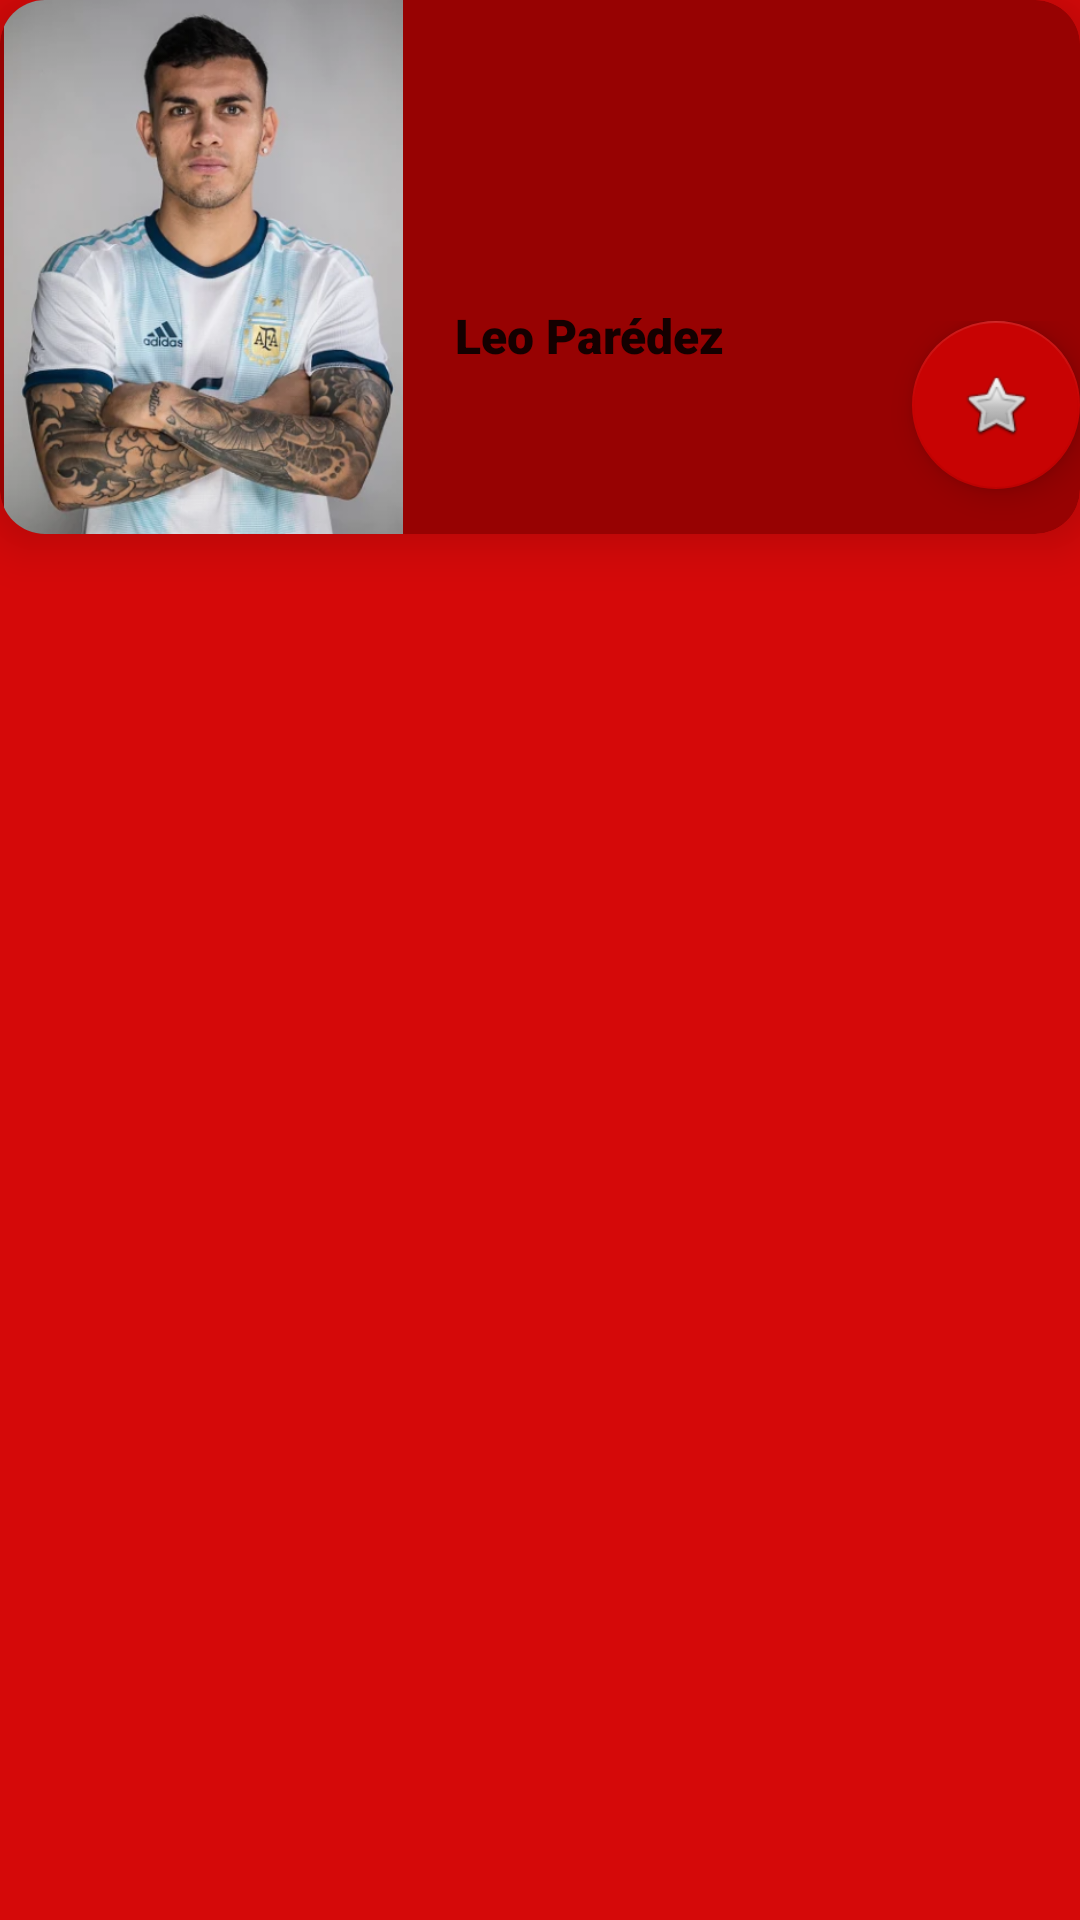

Screen size 1080px×1920px. Icon name, then its center in pixels as (x=x, y=y):
star: (x=996, y=405)
